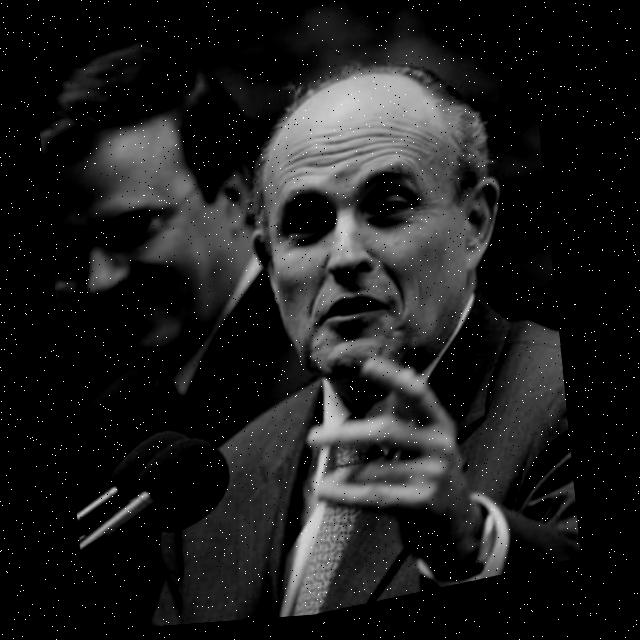face: (235, 61, 506, 406), (37, 70, 242, 392)
